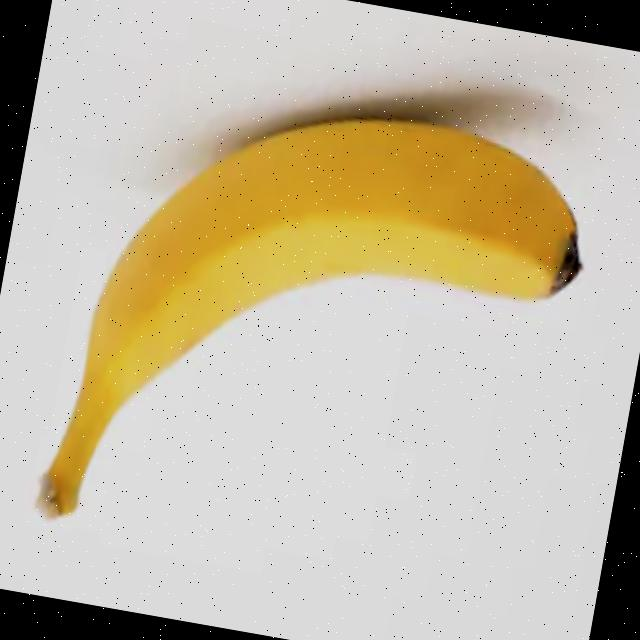banana: (30, 57, 608, 606)
